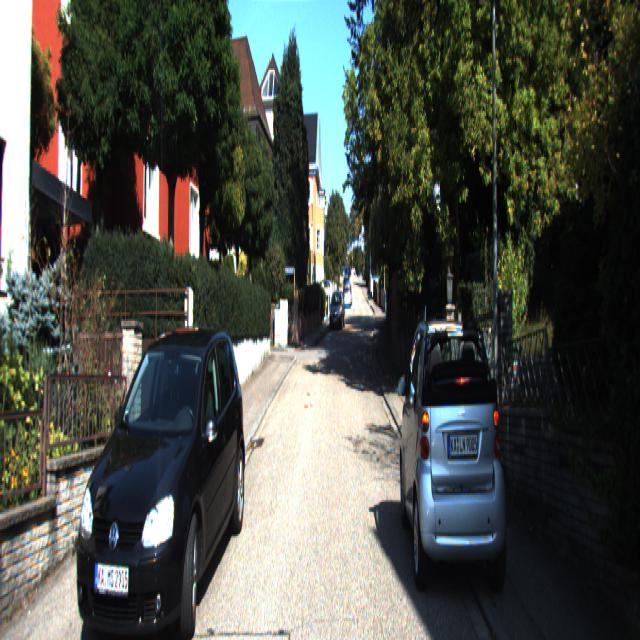Car: (65, 317, 246, 638), (396, 302, 510, 606), (329, 295, 347, 333)
